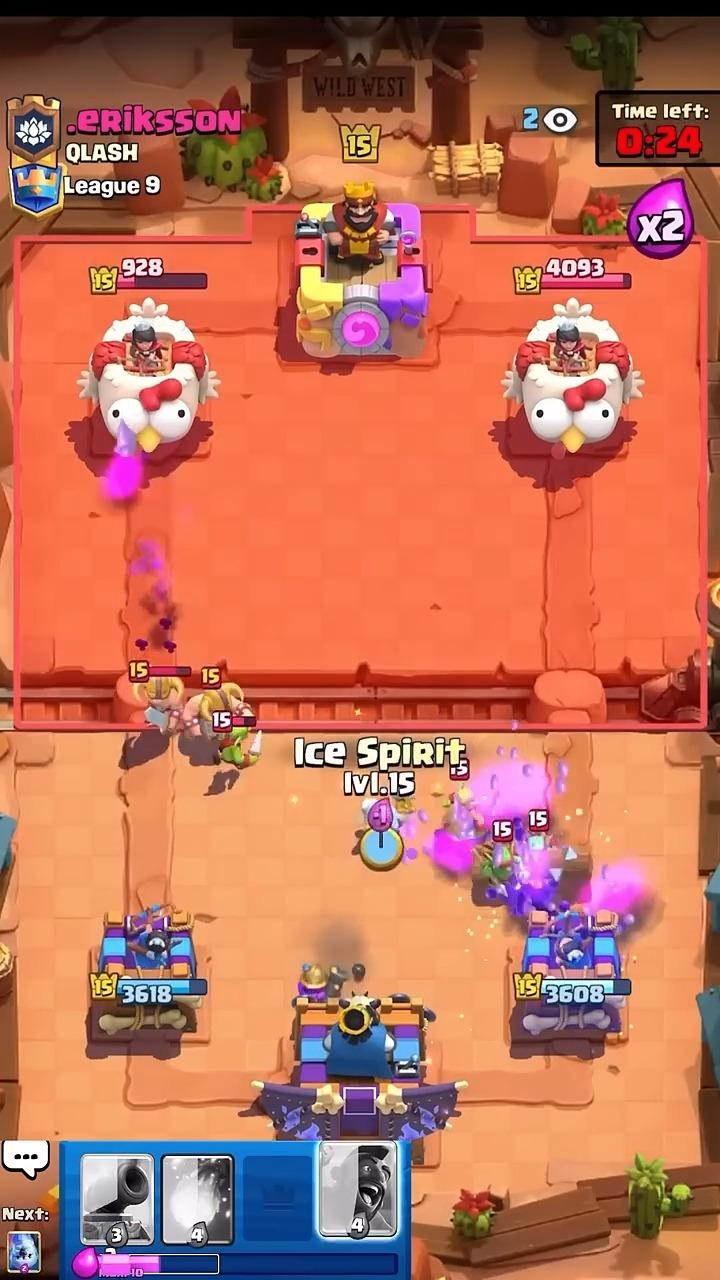elite barbarians: (136, 676, 189, 735), (199, 682, 245, 722)
goblin: (221, 727, 260, 770)
log: (526, 832, 591, 886)
musketeer: (297, 964, 348, 1001)
spear goblin: (475, 840, 518, 898)
